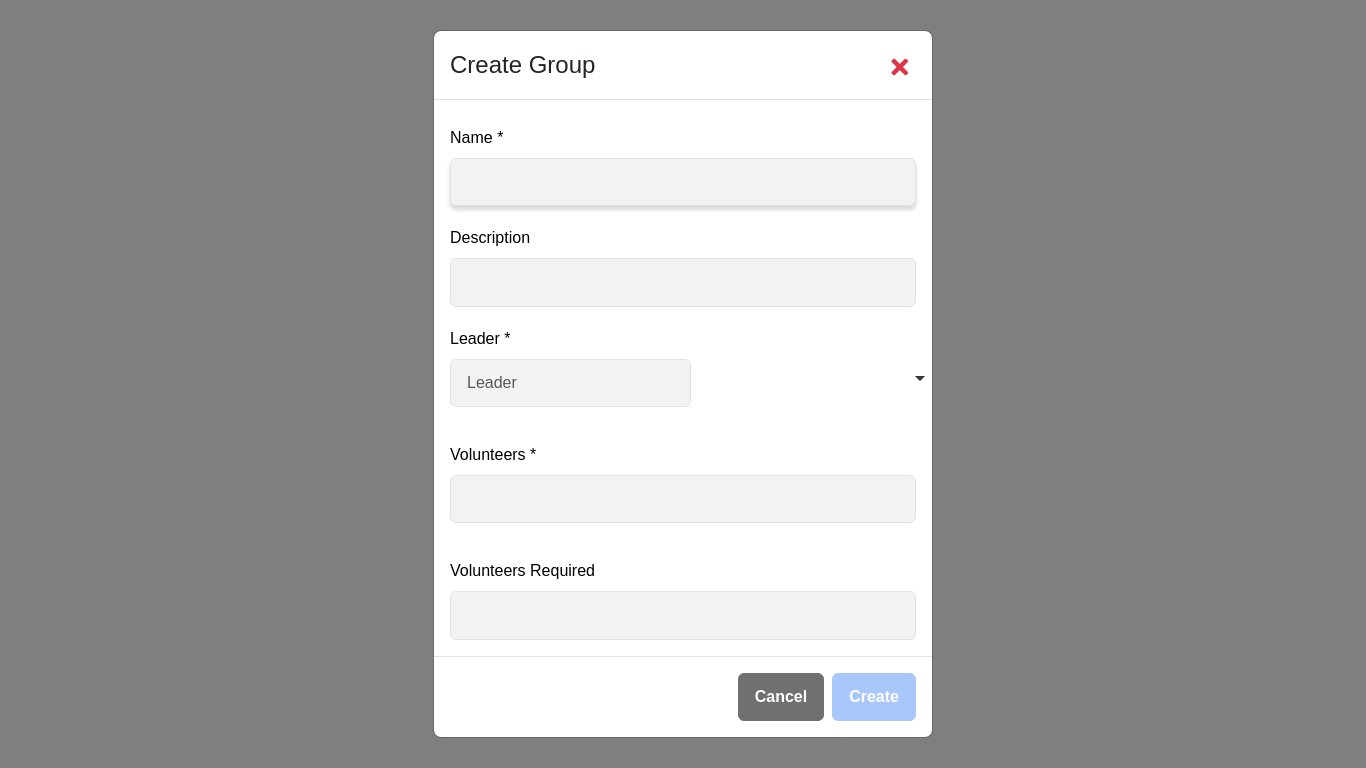
Scenario: Testing VolunteerGroupModal › GroupModal -> Create -> clears leader selection
This screenshot has width=1366, height=768.
Click the dropdown labelled "Leader *" at (570, 383), box [450,359,691,407]
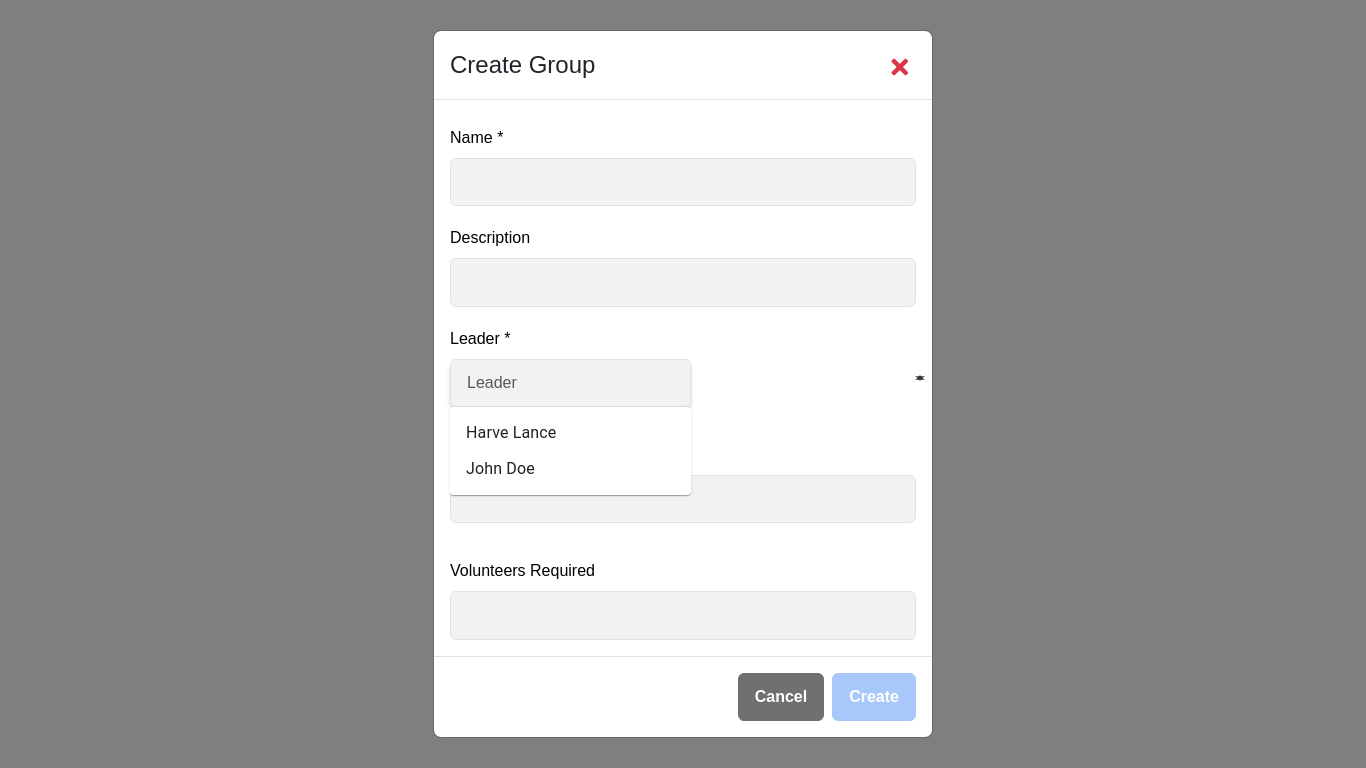
Click the option "Harve Lance" at (511, 432), box [466,423,556,442]
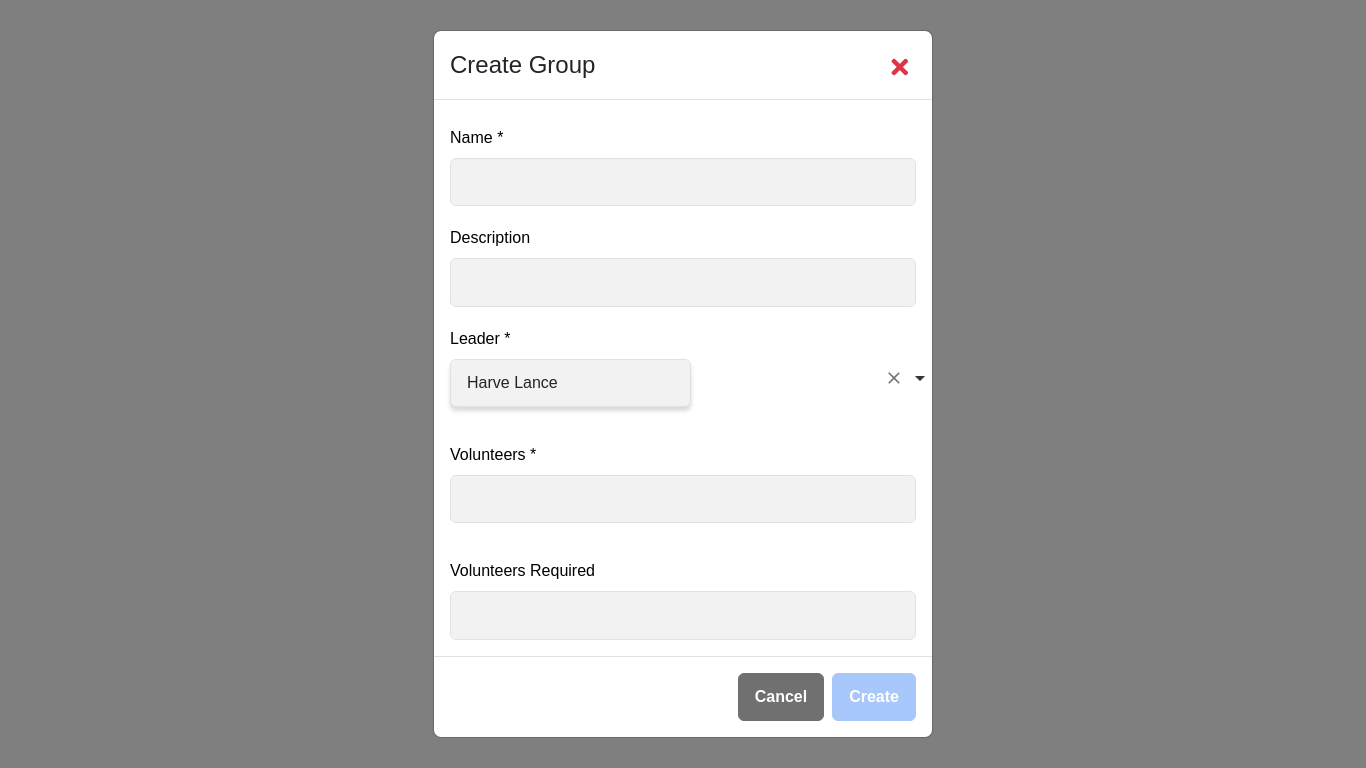
Clear the dropdown labelled "Leader *" at (570, 383), box [450,359,691,407]
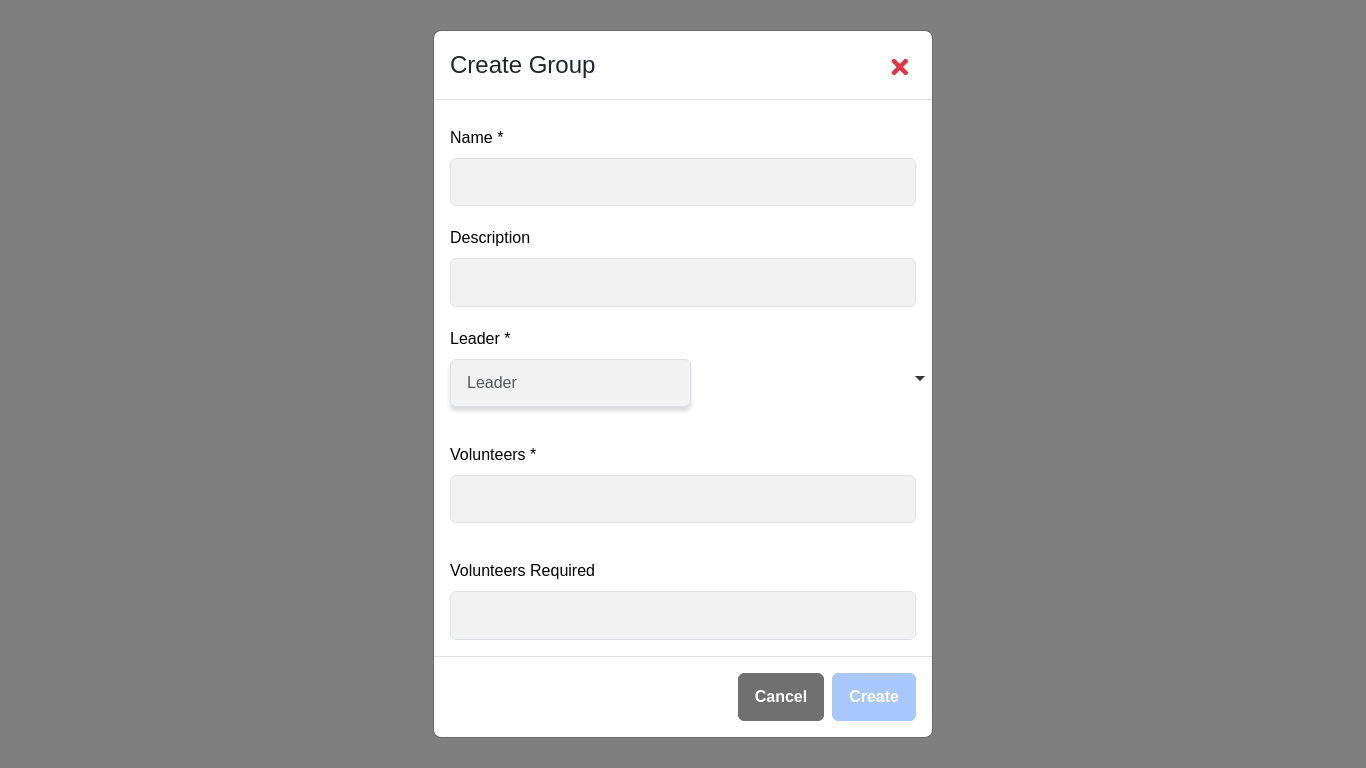
Click the dropdown labelled "Volunteers *" at (683, 499), box [450,475,916,523]
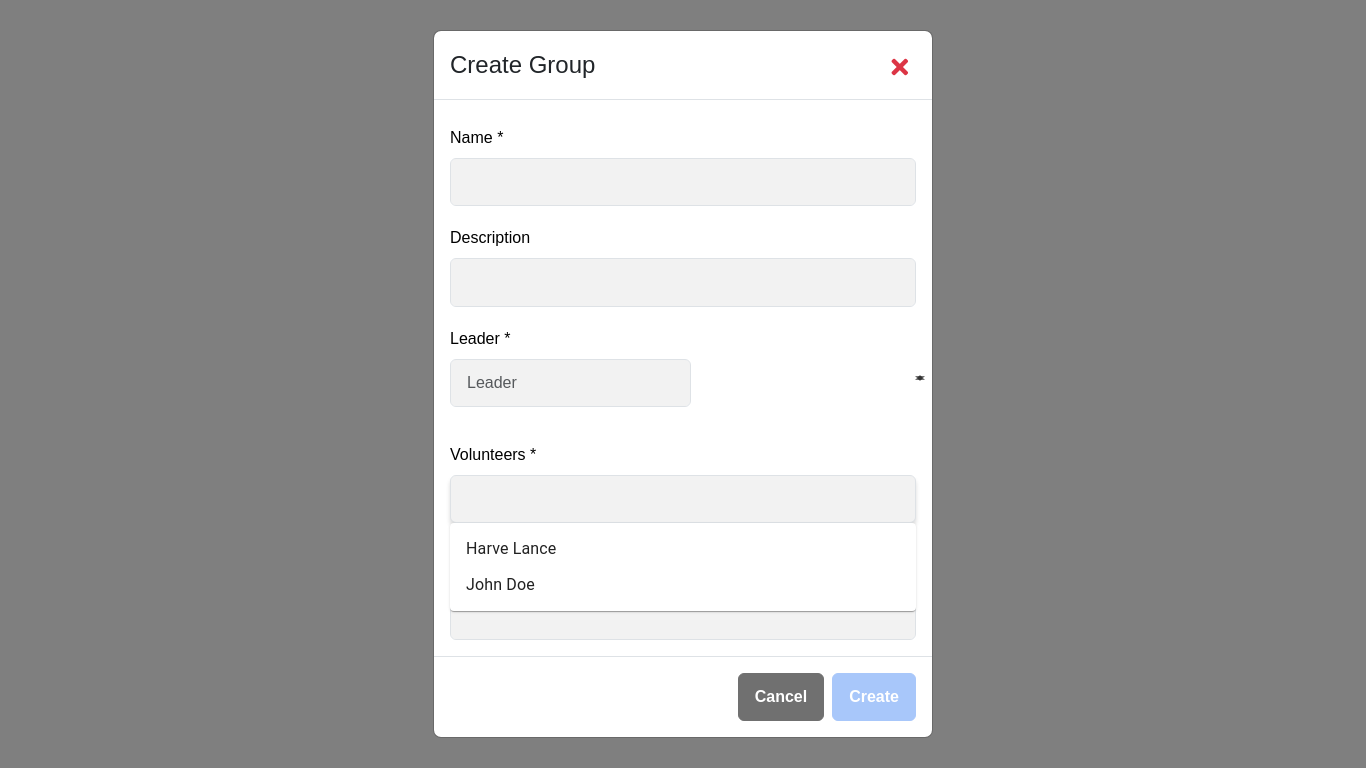
Expected: the option "Harve Lance" is shown, [466,539,556,558]
